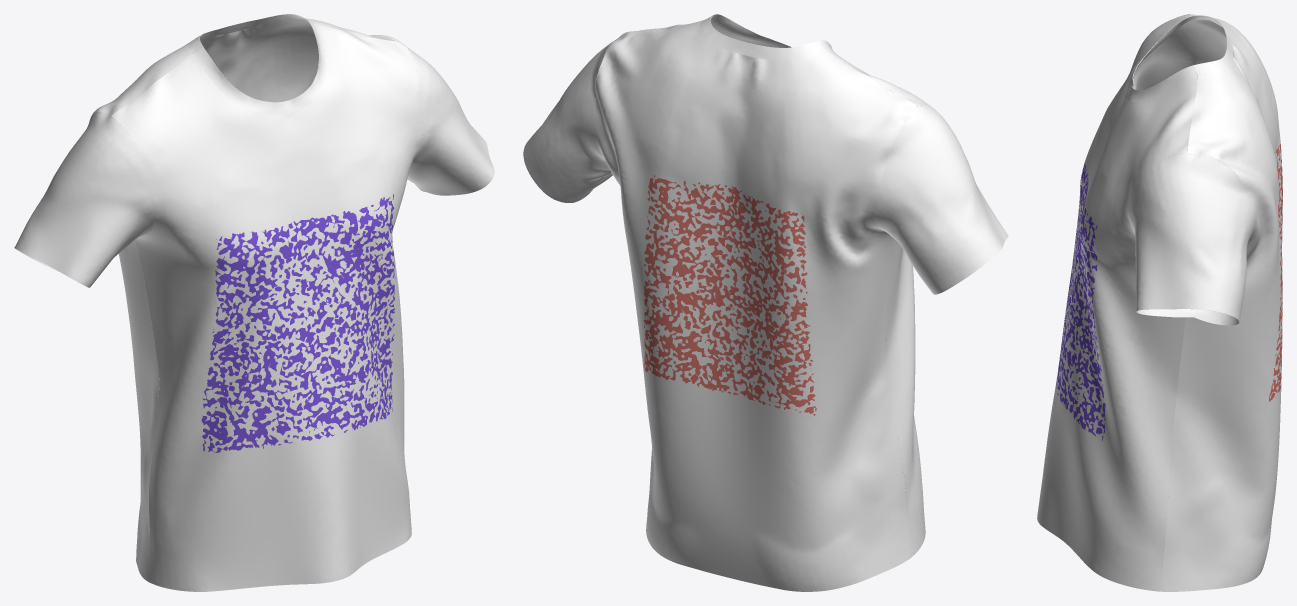
Rendered from blender-shirt.glb.
3 renders of one model, left to right at view 1: azimuth 30°, elevation 25°; view 2: azimuth 150°, elevation 25°; view 3: azimuth 270°, elevation 25°, orthographic. The views are drawn at different scales.
Parts seen in each view (by area): view 1: Body_Front_Node, Body_Back_Node, Sleeves_Node.001, Sleeves_Node, Ribbing_Node.001, Ribbing_Node; view 2: Body_Back_Node, Sleeves_Node.001, Body_Front_Node, Sleeves_Node, Ribbing_Node, Ribbing_Node.001; view 3: Body_Front_Node, Body_Back_Node, Sleeves_Node, Sleeves_Node.001, Ribbing_Node.001, Ribbing_Node.
Boxes of the visible parts, x1,y1,x2,y2 form: Body_Front_Node: (112, 23, 422, 591); Body_Back_Node: (91, 17, 397, 581); Sleeves_Node.001: (14, 111, 154, 287); Sleeves_Node: (397, 40, 494, 195); Ribbing_Node.001: (192, 21, 326, 115); Ribbing_Node: (189, 14, 313, 52); Body_Back_Node: (592, 20, 917, 591); Sleeves_Node.001: (876, 105, 1008, 294); Body_Front_Node: (623, 21, 929, 555); Sleeves_Node: (523, 34, 622, 202); Ribbing_Node: (699, 14, 826, 60); Ribbing_Node.001: (710, 14, 833, 51); Body_Front_Node: (1037, 14, 1197, 591); Body_Back_Node: (1160, 14, 1282, 591); Sleeves_Node: (1129, 153, 1254, 325); Sleeves_Node.001: (1133, 18, 1226, 90); Ribbing_Node.001: (1127, 15, 1197, 101); Ribbing_Node: (1193, 15, 1233, 75).
Bounding box in the file's own units: 0.653 × 0.7016 × 0.3091.
